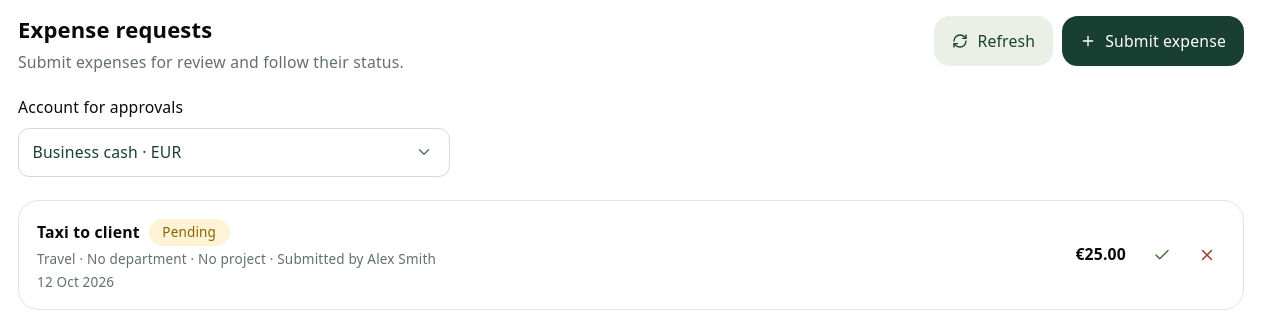
Test: lets owners approve pending requests and refreshes transactions after confirmation
Expected: the button named "Approve Taxi to client" is shown, [1144,237,1180,273]
Select "Business cash · EUR" in the dropdown labelled "Account for approvals" at x=234, y=152, box [18,128,450,177]
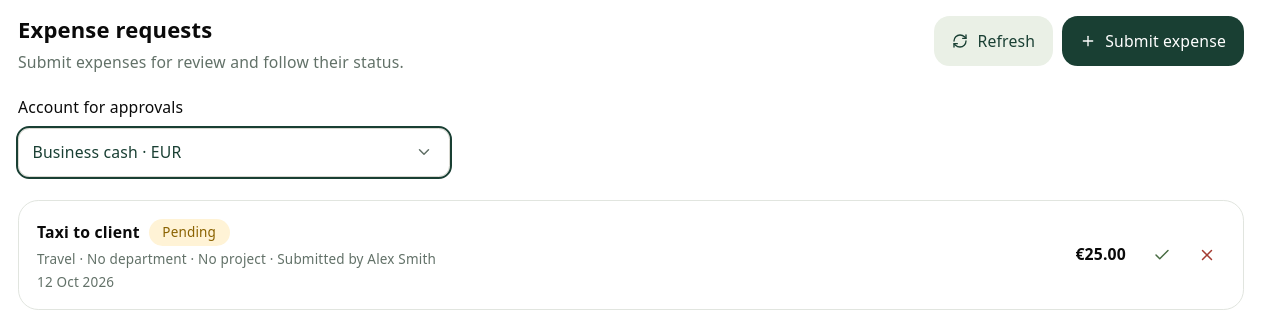
Click the button named "Approve Taxi to client".
click(1162, 255)  # box [1144,237,1180,273]
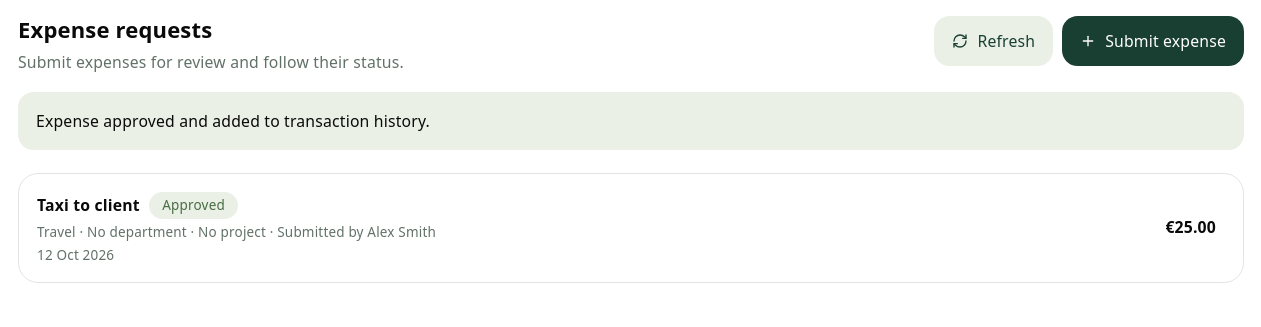
Result: the text "approved" is shown at [149,192,238,219]
